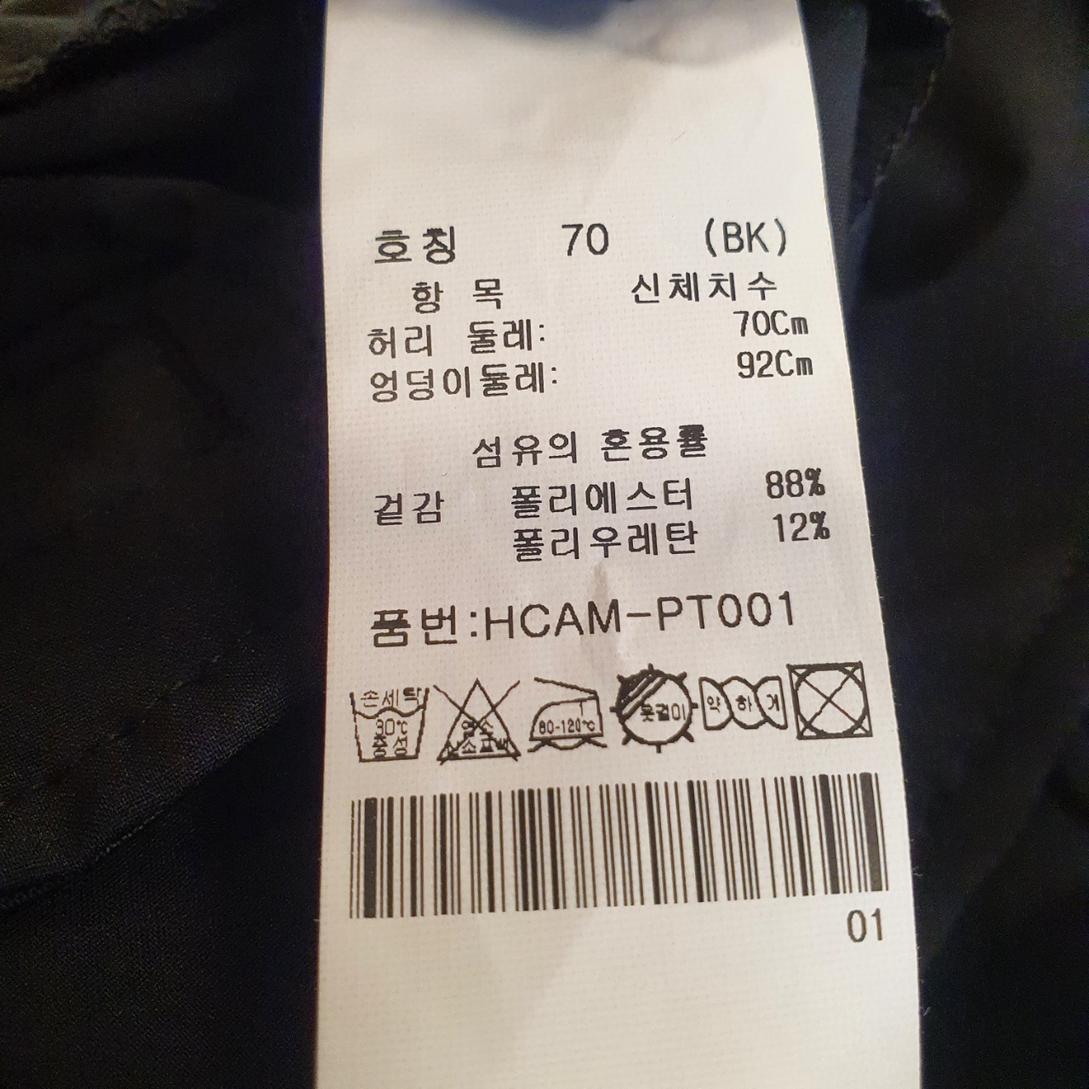KR_gentle_wring: (696, 671, 787, 735)
KR_hand_wash_30_neutral: (346, 685, 432, 768)
KR_hang_dry_in_shade: (607, 664, 699, 749)
KR_iron_low_temp_with_cloth: (525, 675, 610, 757)
KR_no_bleach: (431, 678, 525, 761)
KR_no_tumble_dry: (787, 655, 879, 742)
